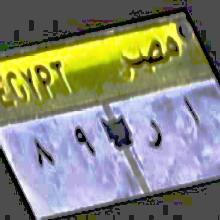8: (32, 131, 54, 179)
9: (75, 118, 95, 163)
alif: (181, 84, 202, 141)
raa: (144, 113, 167, 158)
